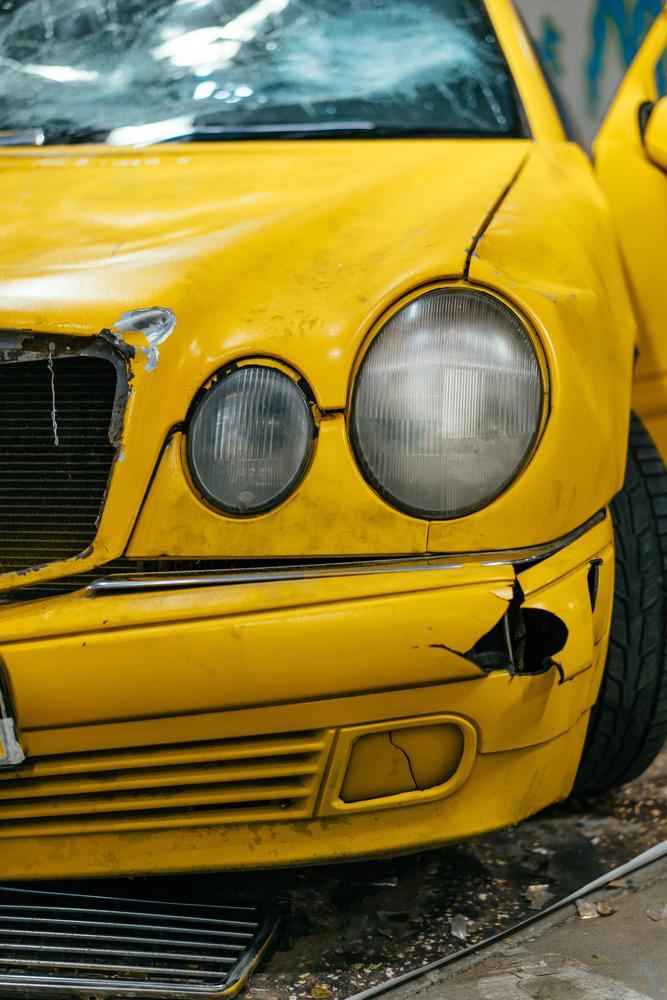crack: (427, 567, 569, 686), (387, 732, 420, 788), (586, 557, 604, 615)
dent: (479, 240, 595, 299)
glass shatter: (0, 0, 530, 137)
